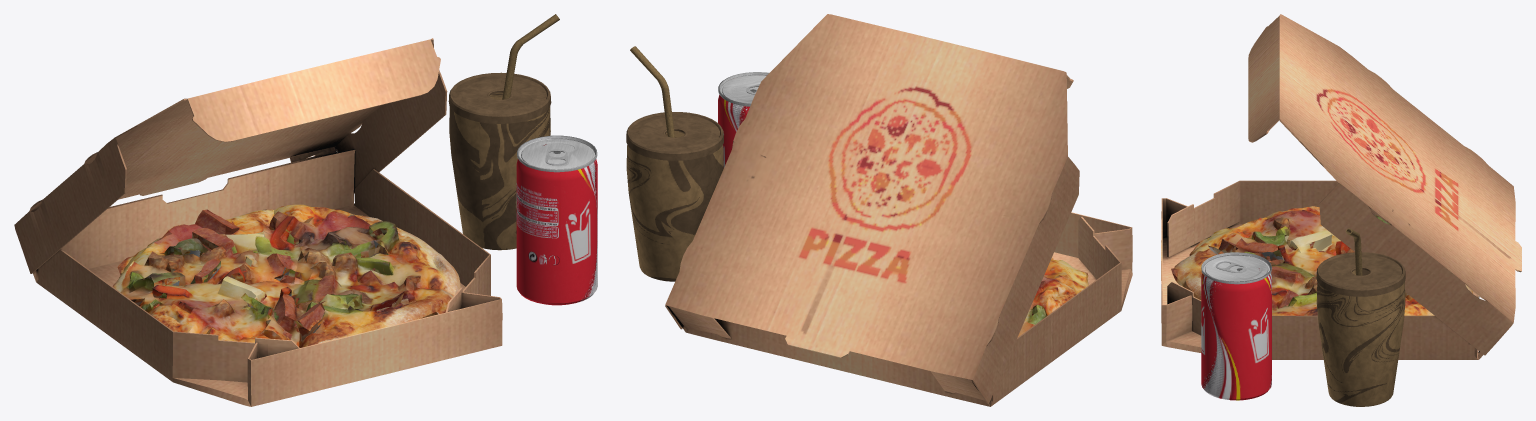
Rendered from PizzaSet.fbx.
3 views of the same model, side by side, from view 1: azimuth 30°, elevation 25°; view 2: azimuth 150°, elevation 25°; view 3: azimuth 270°, elevation 25° (orthographic). The views are drawn at different scales.
Parts seen in each view (by area): view 1: Pizza Box, Pizza, Cup, Can; view 2: Pizza Box, Cup, Pizza, Can; view 3: Pizza Box, Cup, Can, Pizza.
Boxes of the visible parts, x1,y1,x2,y2 form: Pizza Box: (14, 38, 502, 406); Pizza: (112, 204, 460, 347); Cup: (448, 14, 559, 250); Can: (516, 135, 597, 305); Pizza Box: (665, 14, 1132, 406); Cup: (626, 46, 723, 281); Pizza: (1017, 257, 1088, 337); Can: (718, 72, 769, 168); Pizza Box: (1161, 14, 1521, 359); Cup: (1316, 228, 1405, 406); Can: (1201, 252, 1271, 400); Pizza: (1171, 206, 1472, 315).
Bounding box in the file's own units: 2.79 × 1.52 × 2.2.
4 materials, 4 textured.
